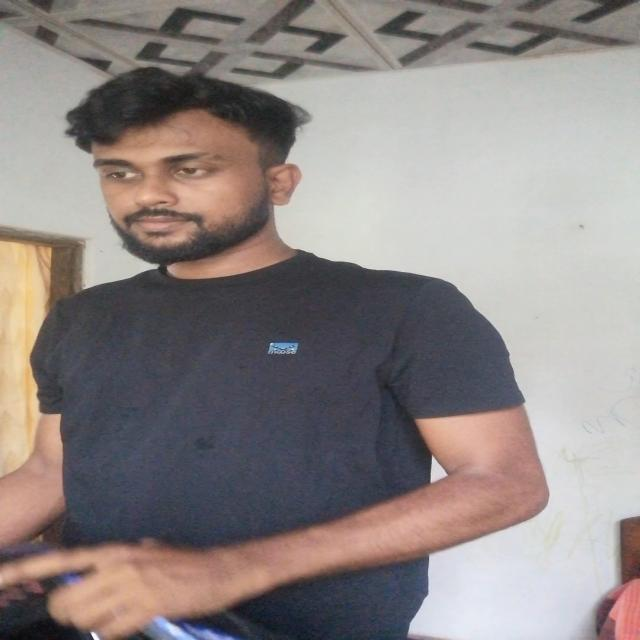Person: (1, 63, 512, 629)
